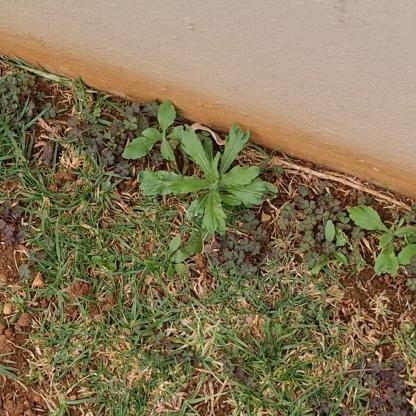Weeds: (136, 122, 278, 237), (122, 97, 198, 163), (347, 199, 412, 273)
